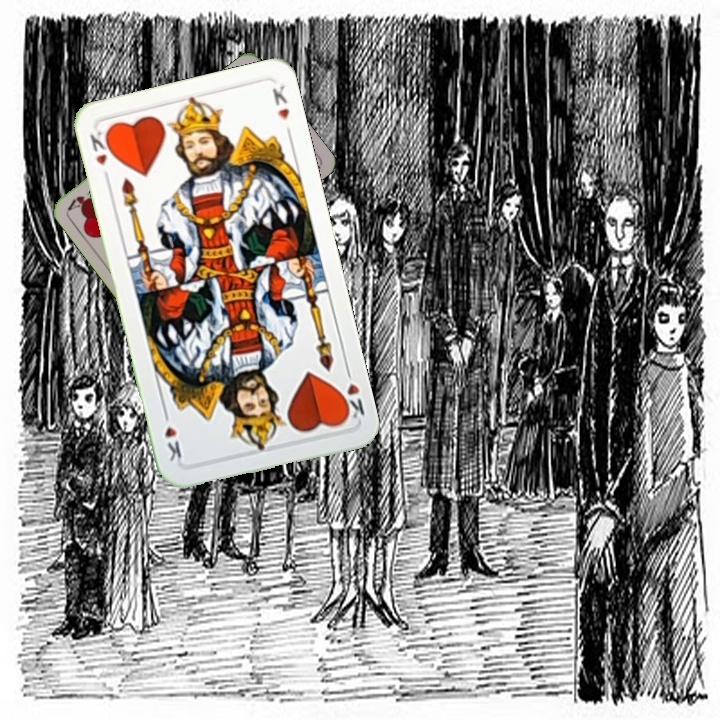HK: (335, 363, 367, 423), (85, 127, 116, 184)
